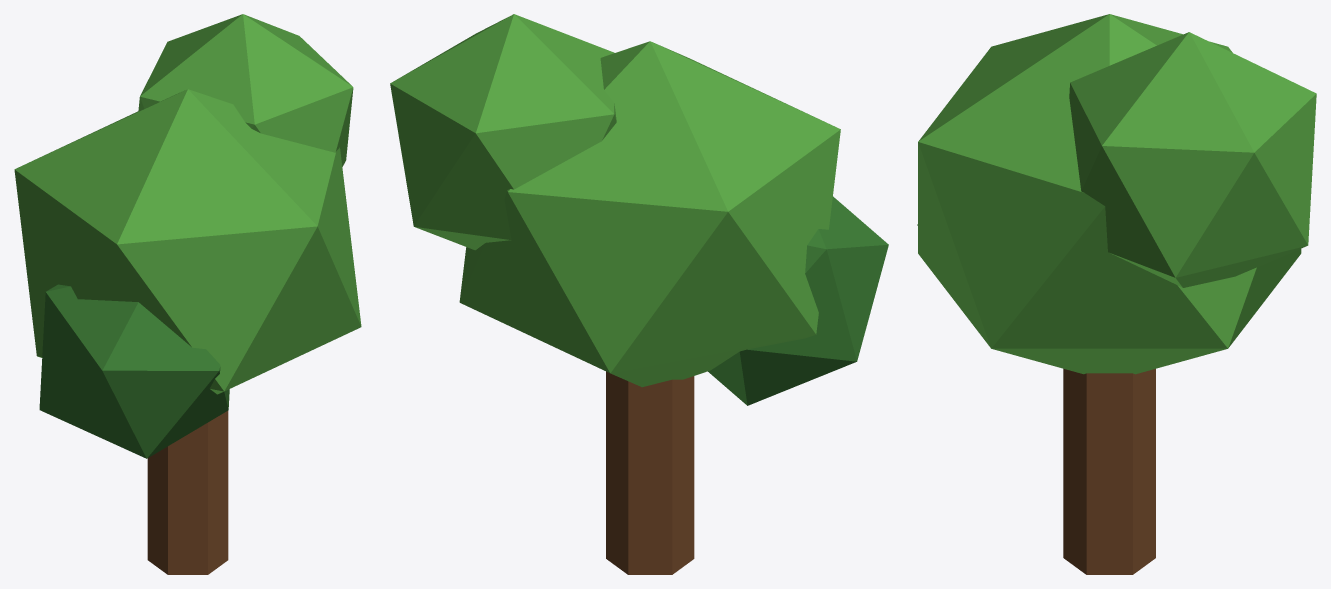
Rendered from tree_round.fbx.
3 renders of one model, left to right at view 1: azimuth 30°, elevation 25°; view 2: azimuth 150°, elevation 25°; view 3: azimuth 270°, elevation 25°, orthographic. The views are drawn at different scales.
Parts seen in each view (by area): view 1: tree_round; view 2: tree_round; view 3: tree_round.
Boxes of the visible parts, left/top/right/bottom form: tree_round: left=14, top=14, right=361, bottom=574; tree_round: left=390, top=14, right=888, bottom=574; tree_round: left=917, top=14, right=1316, bottom=574.
Size of the model in its own units: 0.3573 by 0.48 by 0.3015.
